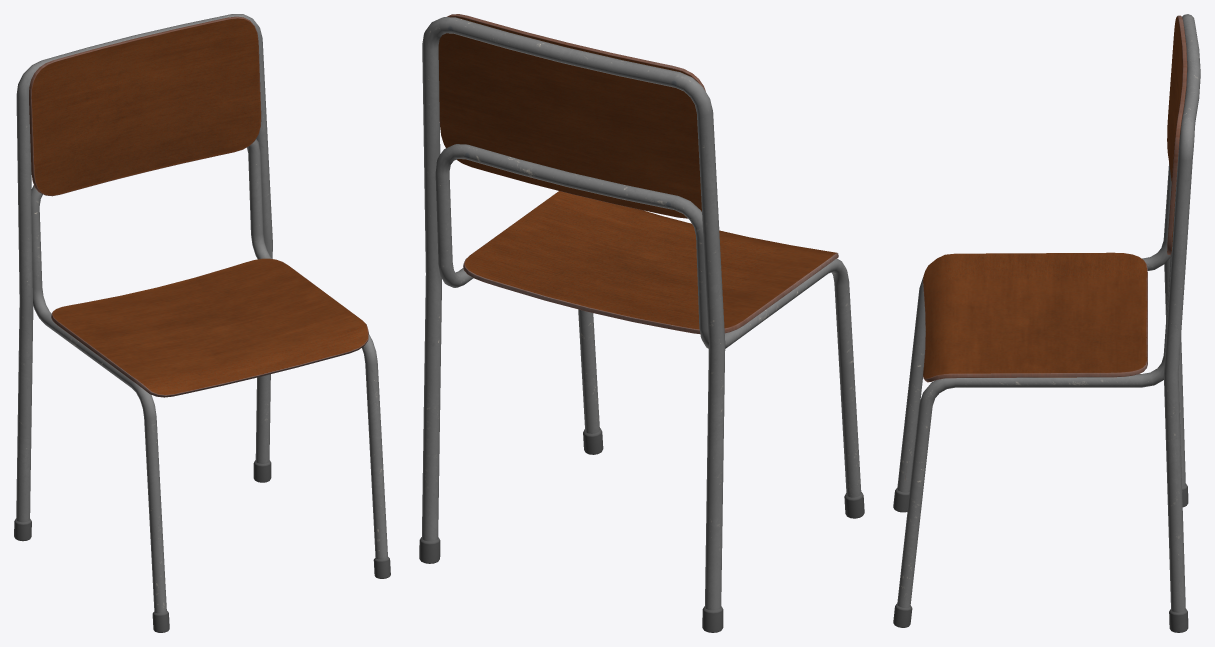
Rendered from Chair_01.FBX.
3 renders of one model, left to right at view 1: azimuth 30°, elevation 25°; view 2: azimuth 150°, elevation 25°; view 3: azimuth 270°, elevation 25°, orthographic. The views are drawn at different scales.
Parts seen in each view (by area): view 1: Chair_01; view 2: Chair_01; view 3: Chair_01.
Boxes of the visible parts, left/top/right/bottom form: Chair_01: left=14, top=14, right=390, bottom=632; Chair_01: left=419, top=14, right=864, bottom=632; Chair_01: left=893, top=14, right=1200, bottom=632.
Bounding box in the file's own units: 46.71 × 82.28 × 45.66.
